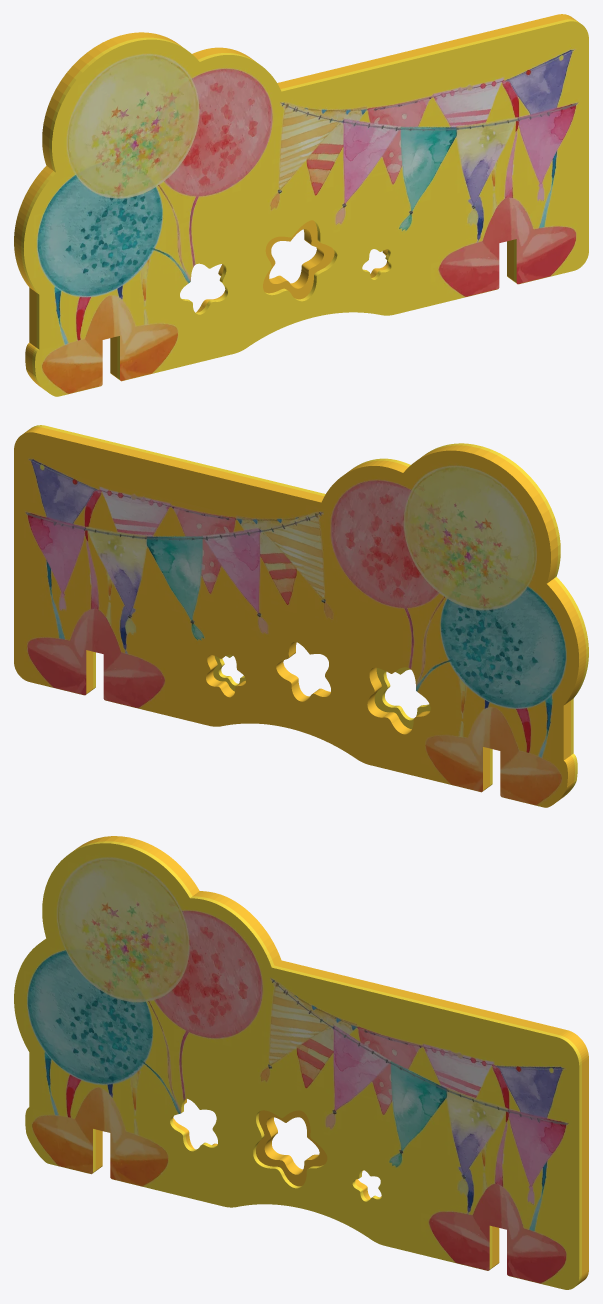
The model's file is door-top.glb.
3 renders of one model, top to bottom at view 1: azimuth 30°, elevation 25°; view 2: azimuth 150°, elevation 25°; view 3: azimuth 330°, elevation 25°, orthographic.
Parts seen in each view (by area): view 1: door-top; view 2: door-top; view 3: door-top.
Boxes of the visible parts, <box> form: door-top: <box>14,14,588,396</box>; door-top: <box>14,425,588,807</box>; door-top: <box>14,836,588,1289</box>.
Size of the model in its own units: 1095 by 623 by 33.
Materials: 4 (2 with a texture image).
